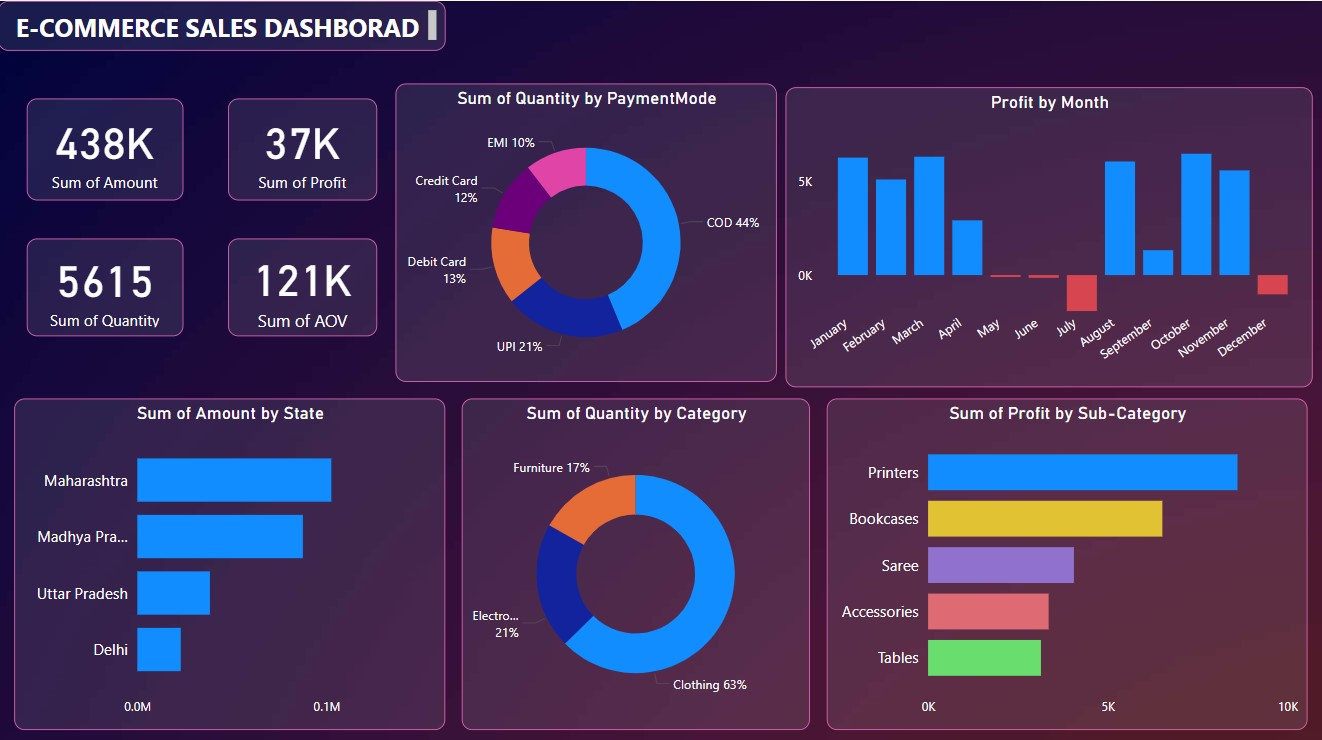

The page's visual inventory and layout, read from the dashboard file:
{"tool":"powerbi","page":{"name":"Page 1","canvas":[1280,720],"ordinal":0},"visuals":[{"type":"textbox","box":[242.9,15.1,772,53.4],"z":0},{"type":"columnChart","title":"Profit by Month","fields":{"Category":["Orders.Order Date.Variation.Date Hierarchy.Month"],"Y":["Sum(Details.Profit)"]},"box":[658.1,398.1,603.7,273.1],"z":1000},{"type":"barChart","fields":{"Category":["Details.Sub-Category"],"Y":["Sum(Details.Profit)"]},"box":[348.7,77.6,601.7,273.1],"z":2000},{"type":"donutChart","fields":{"Category":["Details.Category"],"Y":["Sum(Details.Quantity)"]},"box":[22.2,77.6,301.4,273.1],"z":3000},{"type":"donutChart","fields":{"Category":["Details.PaymentMode"],"Y":["Sum(Details.Quantity)"]},"box":[348.7,398.1,280.2,273.1],"z":4000},{"type":"card","fields":{"Values":["Sum(Details.Amount)"]},"box":[1123.8,199.6,138.1,105.8],"z":5000},{"type":"card","fields":{"Values":["Sum(Details.Profit)"]},"box":[1123.8,77.6,138.1,112.9],"z":6000},{"type":"card","fields":{"Values":["Sum(Details.Quantity)"]},"box":[964.5,77.6,148.2,112.9],"z":7000},{"type":"card","fields":{"Values":["Sum(Details.AOV)"]},"box":[964.5,199.6,148.2,105.8],"z":8000},{"type":"barChart","fields":{"Category":["Details.Sub-Category"],"Y":["Sum(Details.Profit)"]},"box":[32.3,398.1,291.3,273.1],"z":9000}]}

Visuals, with their boxes in screenshot pixels (x1, y1, x2, y2), scaled from the page's 1280x720 canvas onto the 1322x740 screenshot:
textbox: [x1=251, y1=16, x2=1048, y2=70]
"Profit by Month" columnChart: [x1=680, y1=409, x2=1303, y2=690]
barChart - Details.Sub-Category x Sum(Details.Profit): [x1=360, y1=80, x2=982, y2=360]
donutChart - Details.Category x Sum(Details.Quantity): [x1=23, y1=80, x2=334, y2=360]
donutChart - Details.PaymentMode x Sum(Details.Quantity): [x1=360, y1=409, x2=650, y2=690]
card - Sum(Details.Amount): [x1=1161, y1=205, x2=1303, y2=314]
card - Sum(Details.Profit): [x1=1161, y1=80, x2=1303, y2=196]
card - Sum(Details.Quantity): [x1=996, y1=80, x2=1149, y2=196]
card - Sum(Details.AOV): [x1=996, y1=205, x2=1149, y2=314]
barChart - Details.Sub-Category x Sum(Details.Profit): [x1=33, y1=409, x2=334, y2=690]
